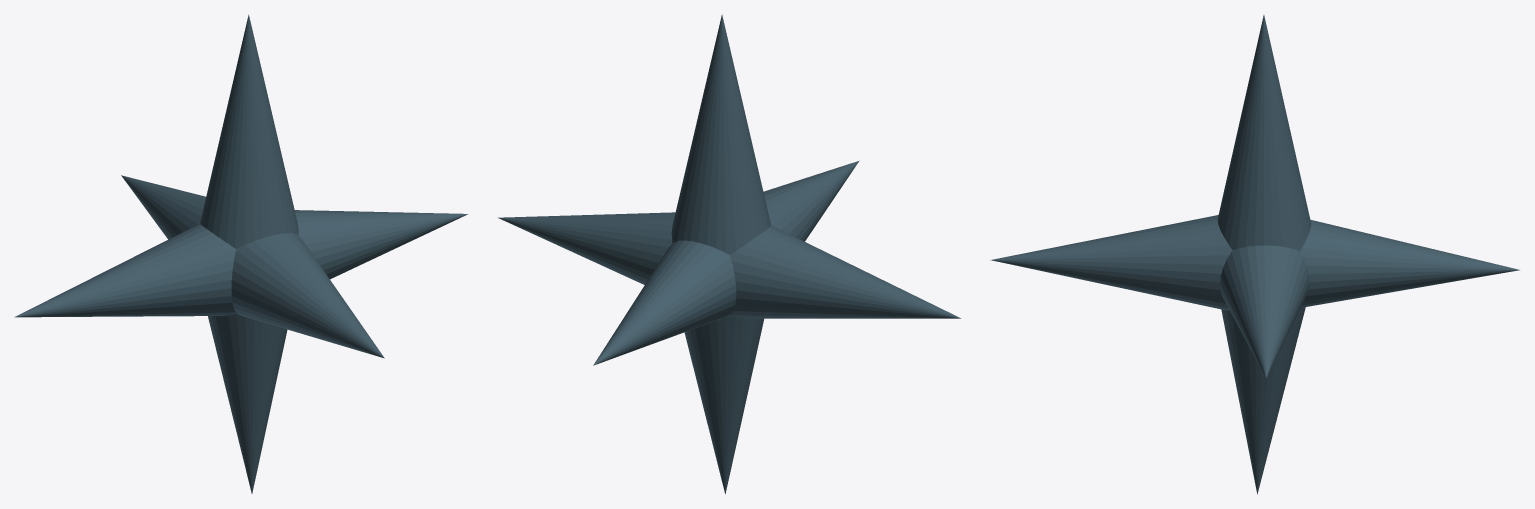
The model's file is SpikeBallForGolfBall.fbx.
The picture shows the model from 3 angles, left to right: view 1: azimuth 30°, elevation 25°; view 2: azimuth 150°, elevation 25°; view 3: azimuth 270°, elevation 25°; orthographic projection.
Parts seen in each view (by area): view 1: Cone; view 2: Cone; view 3: Cone.
Part boxes in pixels (<box>): Cone: <box>14,14,467,493</box>; Cone: <box>498,14,960,494</box>; Cone: <box>990,15,1519,494</box>.
Bounding box in the file's own units: 646 × 646 × 646.
